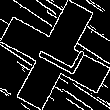L_NW: (25, 29, 85, 81)
